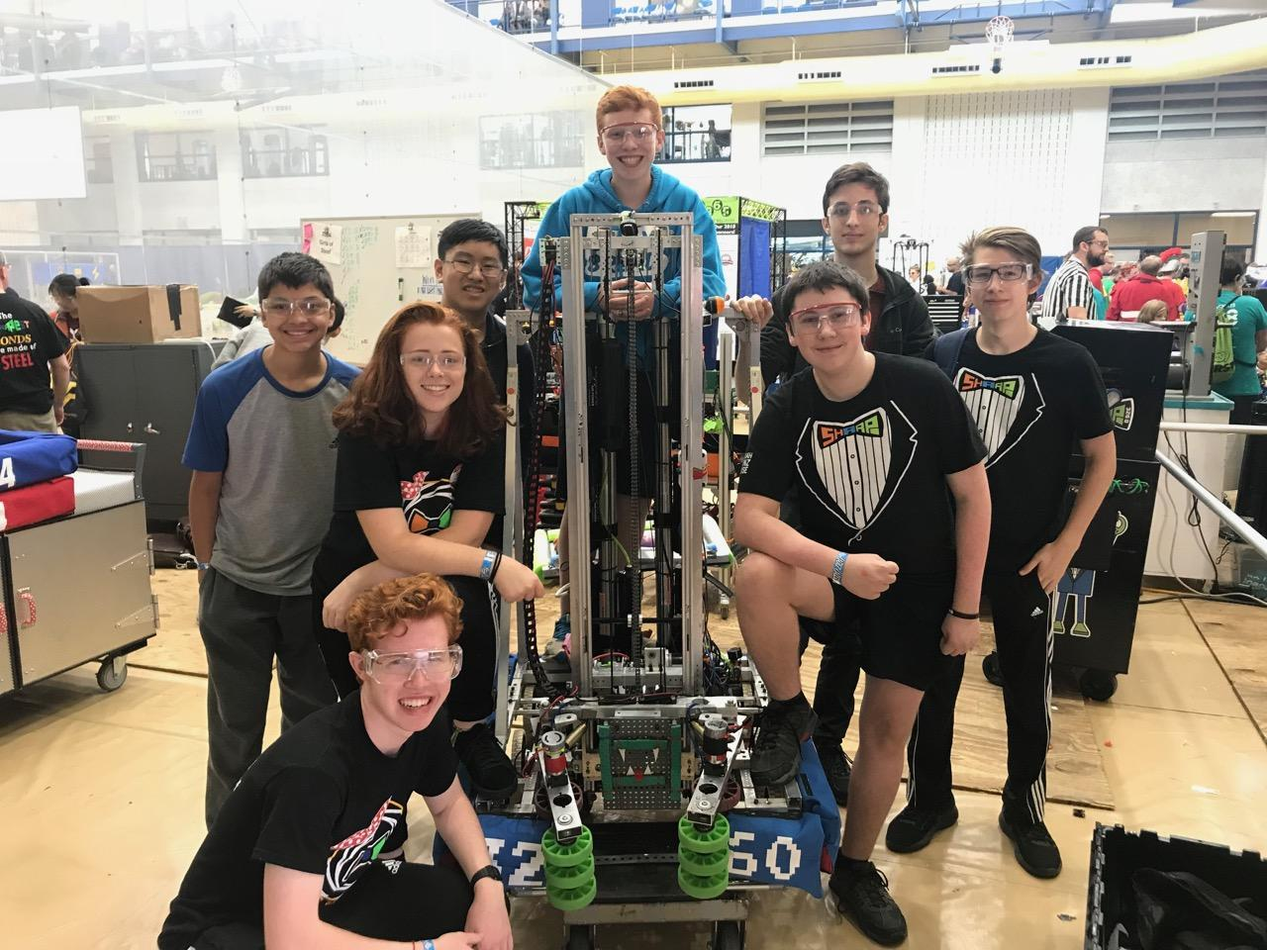robot: (428, 208, 851, 906)
